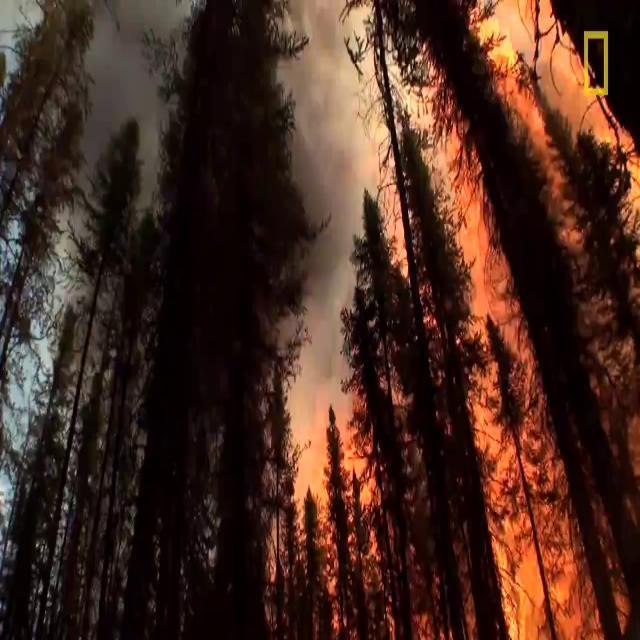Fire: (428, 73, 522, 389), (533, 44, 635, 335), (471, 411, 586, 640), (301, 433, 423, 614)
Smoke: (287, 54, 365, 335)
